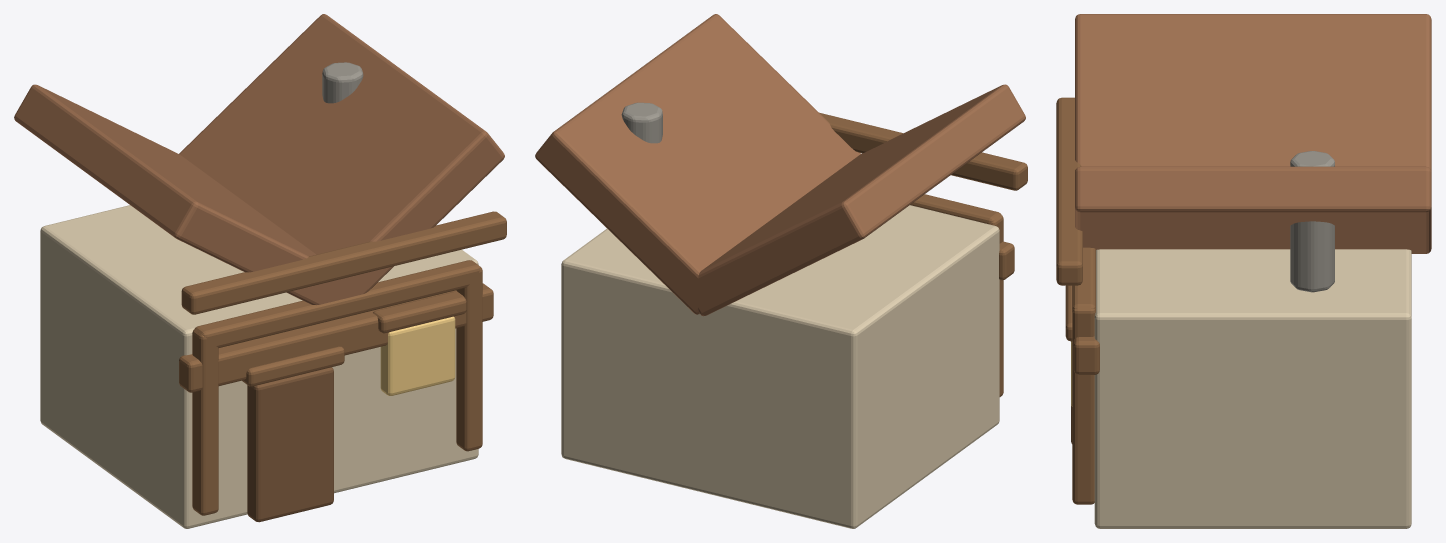
File: woodland-cottage-01.glb
3 views of the same model, side by side, from view 1: azimuth 30°, elevation 25°; view 2: azimuth 150°, elevation 25°; view 3: azimuth 270°, elevation 25° (orthographic). The views are drawn at different scales.
Visible parts, largest first — view 1: woodland-cottage-01; view 2: woodland-cottage-01; view 3: woodland-cottage-01.
Part boxes in pixels (left/top/right/bottom): woodland-cottage-01: left=14, top=14, right=506, bottom=528; woodland-cottage-01: left=535, top=14, right=1027, bottom=528; woodland-cottage-01: left=1056, top=14, right=1431, bottom=528.
Size of the model in its own units: 0.3125 by 0.3022 by 0.284.
